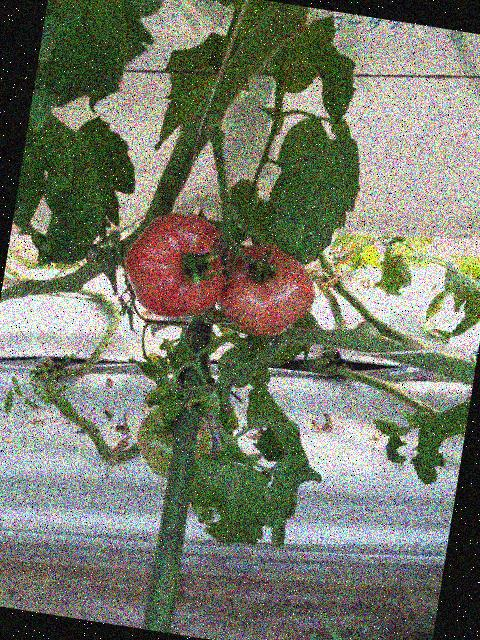b_fully_ripened: (117, 205, 238, 325), (212, 236, 323, 343)
b_green: (132, 397, 218, 483)
